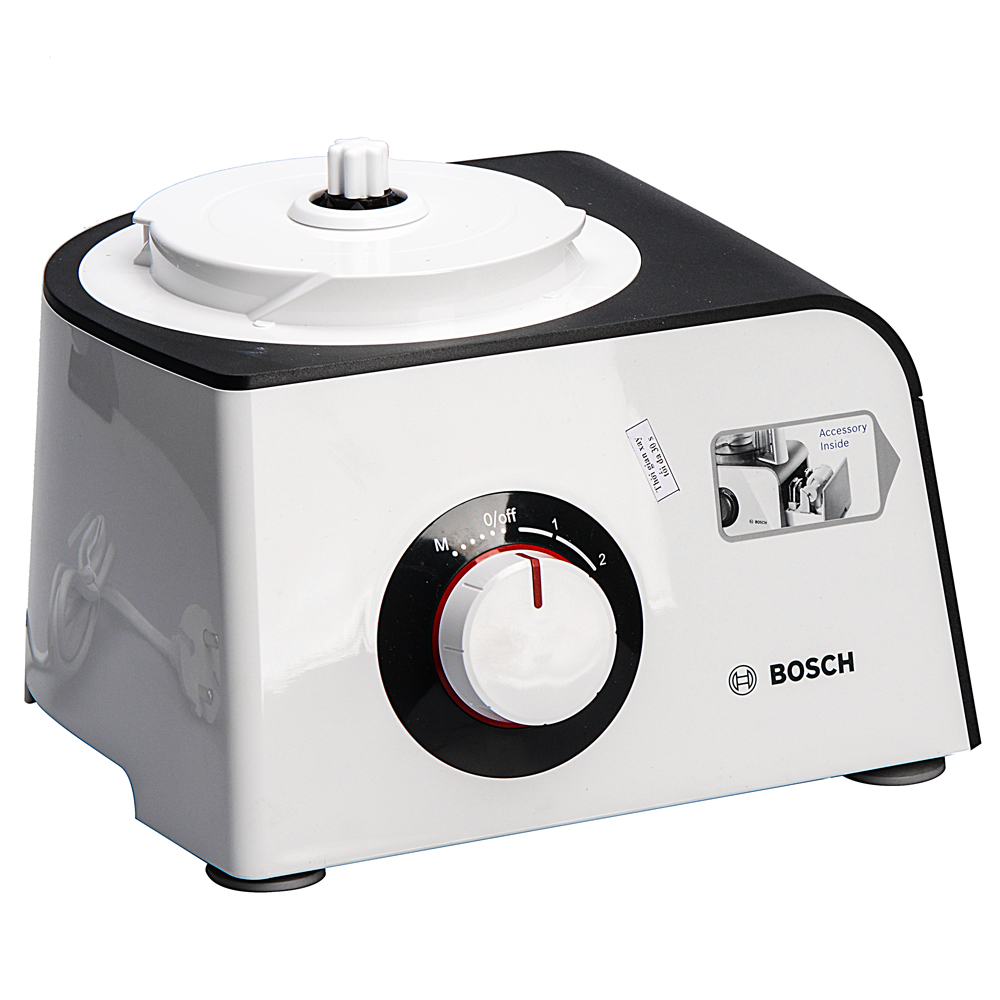Bosch: (762, 646, 863, 700)
